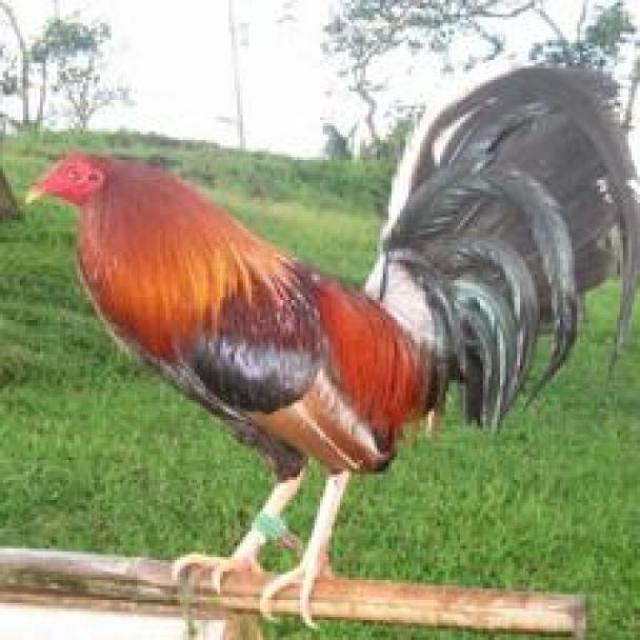Chicken: (25, 93, 625, 632)
